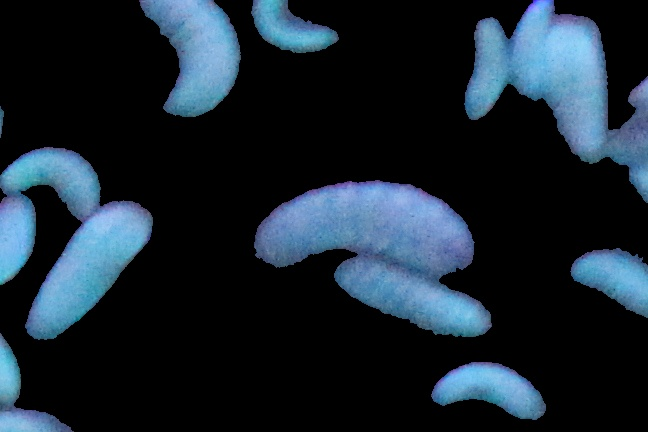larvae: (236, 163, 490, 264), (21, 200, 158, 340), (545, 15, 613, 163), (146, 1, 229, 119), (334, 275, 494, 335), (418, 363, 550, 420), (2, 143, 106, 212), (570, 245, 648, 321), (465, 9, 514, 124), (246, 1, 351, 53), (512, 1, 547, 119), (1, 195, 40, 295)
